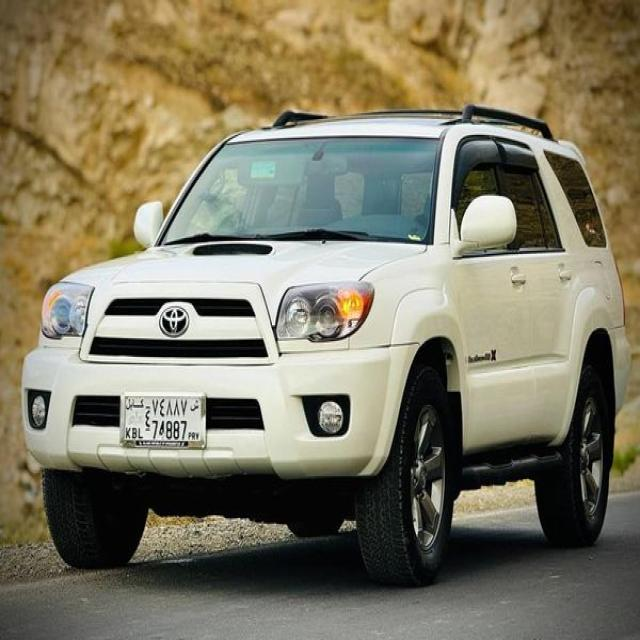Plate: (121, 391, 208, 450)
